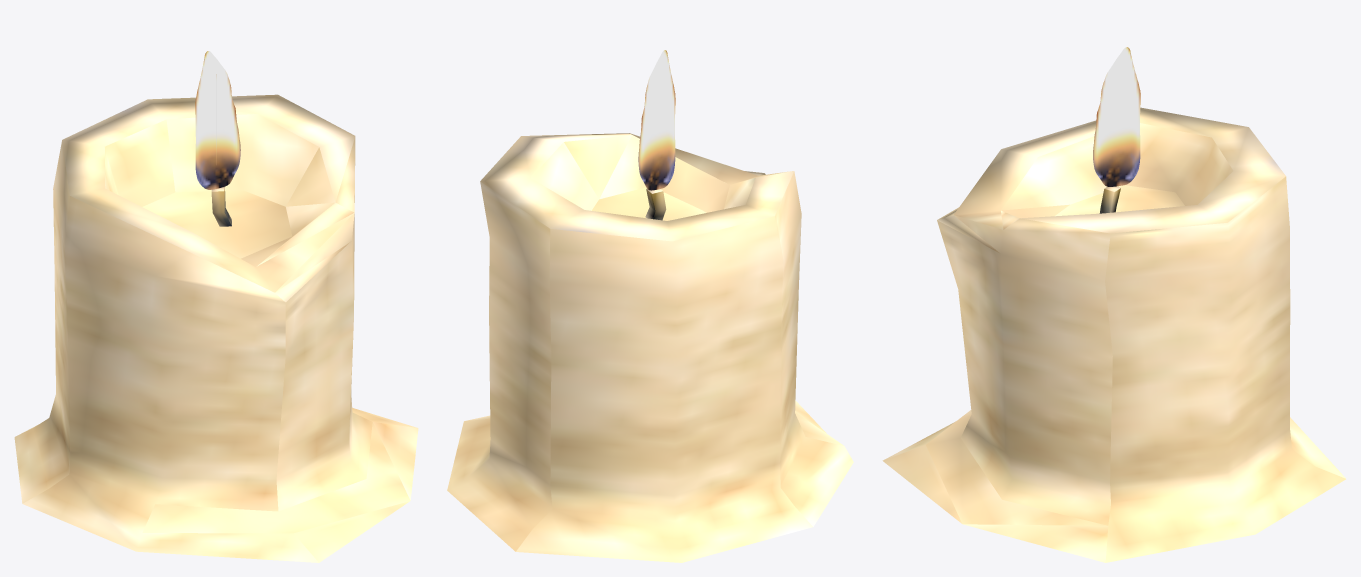
Rendered from CandleShapeC.001.glb.
The picture shows the model from 3 angles, left to right: view 1: azimuth 30°, elevation 25°; view 2: azimuth 150°, elevation 25°; view 3: azimuth 270°, elevation 25°; orthographic projection.
Parts seen in each view (by area): view 1: CandleShapeC.001; view 2: CandleShapeC.001; view 3: CandleShapeC.001.
Boxes of the visible parts, left/top/right/bottom form: CandleShapeC.001: left=14, top=51, right=418, bottom=562; CandleShapeC.001: left=447, top=50, right=853, bottom=562; CandleShapeC.001: left=882, top=47, right=1345, bottom=562.
Bounding box in the file's own units: 0.1734 × 0.193 × 0.1889.
2 materials, 2 textured.
